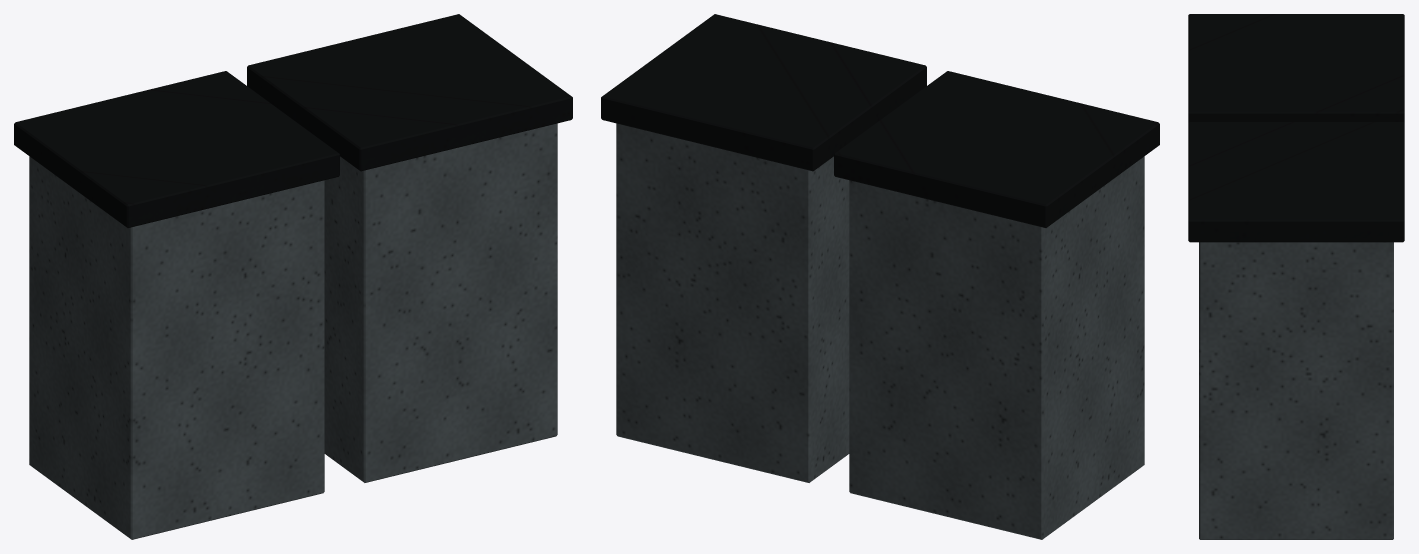
The model's file is PROP-CACC5298FEF3_lod1.glb.
The picture shows the model from 3 angles, left to right: view 1: azimuth 30°, elevation 25°; view 2: azimuth 150°, elevation 25°; view 3: azimuth 270°, elevation 25°; orthographic projection. The views are drawn at different scales.
Visible parts, largest first — view 1: waste_container.005, bin_lid.005; view 2: waste_container.005, bin_lid.005; view 3: waste_container.005, bin_lid.005.
Boxes of the visible parts, bbox=[...] form: waste_container.005: bbox=[29, 123, 557, 539]; bin_lid.005: bbox=[14, 14, 572, 227]; waste_container.005: bbox=[616, 123, 1144, 539]; bin_lid.005: bbox=[601, 14, 1159, 227]; waste_container.005: bbox=[1199, 242, 1393, 539]; bin_lid.005: bbox=[1188, 14, 1404, 242].
Bounding box in the file's own units: 1.38 × 1.01 × 0.61.
Materials: 2 (2 with a texture image).
